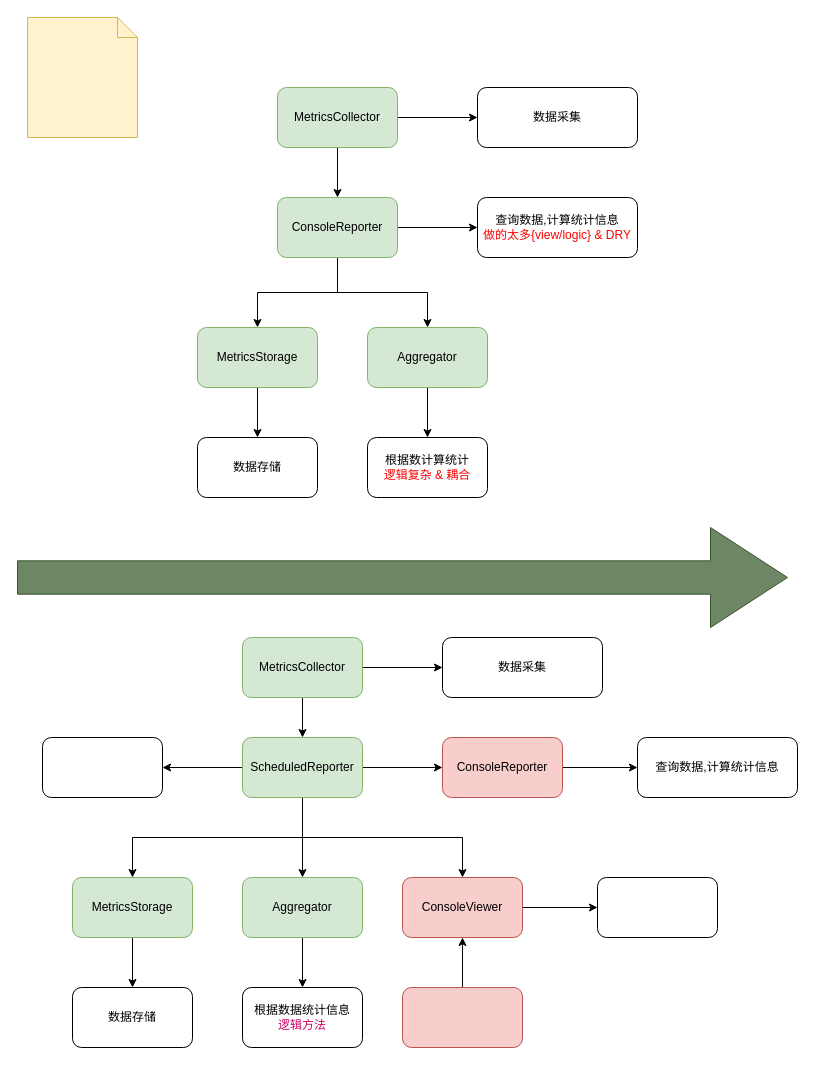
This 815x1065 diagram has some shape labels left out. The shapes that lost their labels are listed below. From the top down, each one's box as (x1, y1, x2, y2) in pixels, then its label:
(26, 16, 138, 138): 计数器 1. 数据采集 2. 存储 3. 聚合统计 4. 显示
(16, 526, 788, 628): refactor v1
(42, 736, 162, 798): 抽象 & 重复逻辑
(596, 876, 718, 938): 构建制定格式的输出
(402, 986, 522, 1048): IViewer
